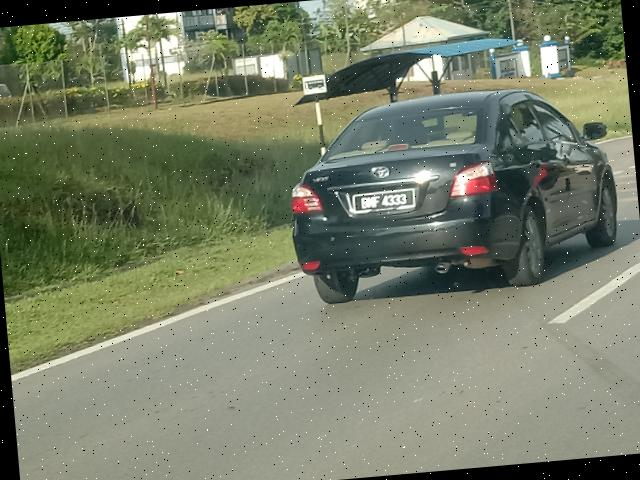License_Plate: (353, 188, 417, 215)
car: (274, 72, 633, 305)
